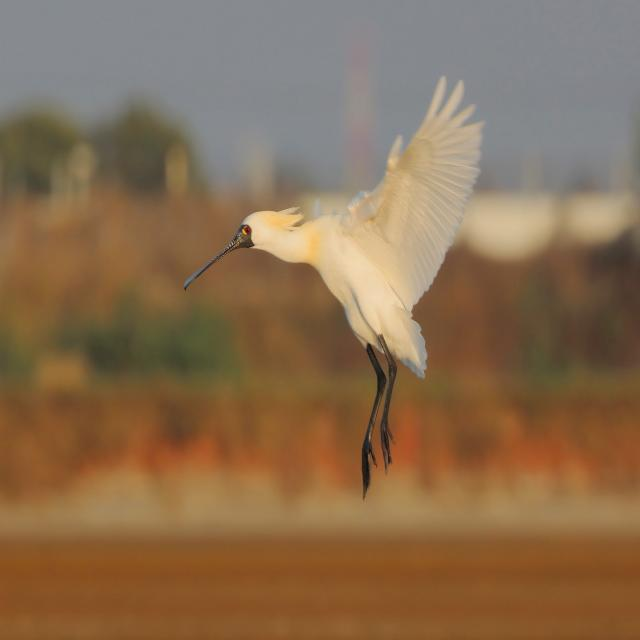Black-faced spoonbill: (185, 78, 482, 495)
